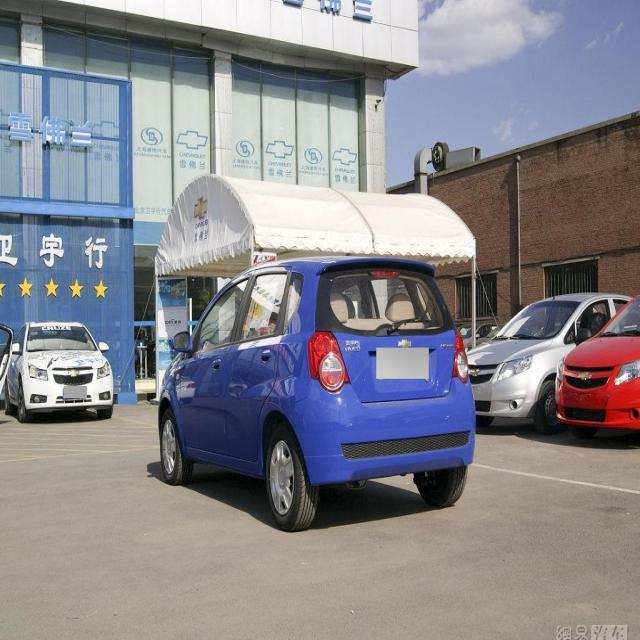back_glass: (317, 261, 451, 335)
back_left_side_light: (307, 329, 352, 396)
back_right_side_light: (448, 328, 474, 386)
door: (227, 272, 294, 459)
front_left_side_door: (177, 268, 254, 459)
front_left_side_mirror: (170, 325, 192, 353)
rear_bumper: (282, 378, 476, 485)
wheel: (266, 422, 316, 532), (160, 410, 191, 485)
